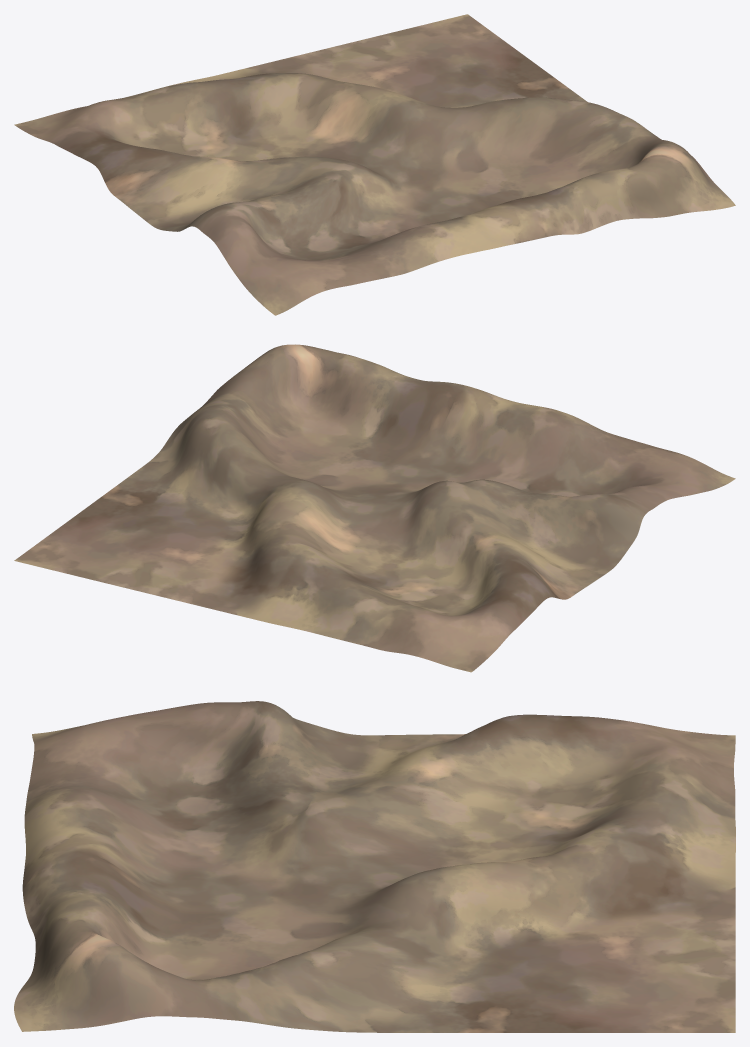
Rendered from testGround.glb.
3 views of the same model, one above another, from view 1: azimuth 30°, elevation 25°; view 2: azimuth 150°, elevation 25°; view 3: azimuth 270°, elevation 25° (orthographic). The views are drawn at different scales.
Parts seen in each view (by area): view 1: Plane; view 2: Plane; view 3: Plane.
Part boxes in pixels (left/top/right/bottom): Plane: left=14, top=14, right=735, bottom=315; Plane: left=14, top=344, right=735, bottom=672; Plane: left=14, top=701, right=735, bottom=1032.
Size of the model in its own units: 5.11 by 0.5006 by 5.13.
1 material, 1 textured.
